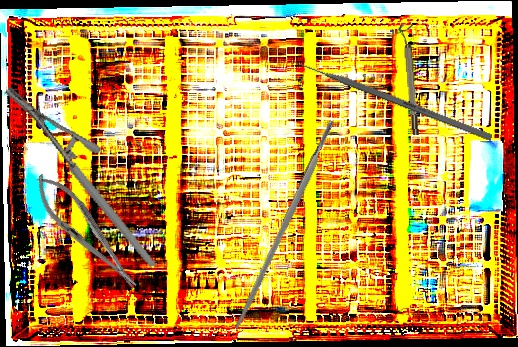Fixation Ring: (398, 23, 421, 136)
Needle Holder: (1, 60, 158, 294), (24, 165, 148, 299)
Pusher: (284, 54, 494, 142)
Scalpel Handle: (232, 119, 338, 331)
